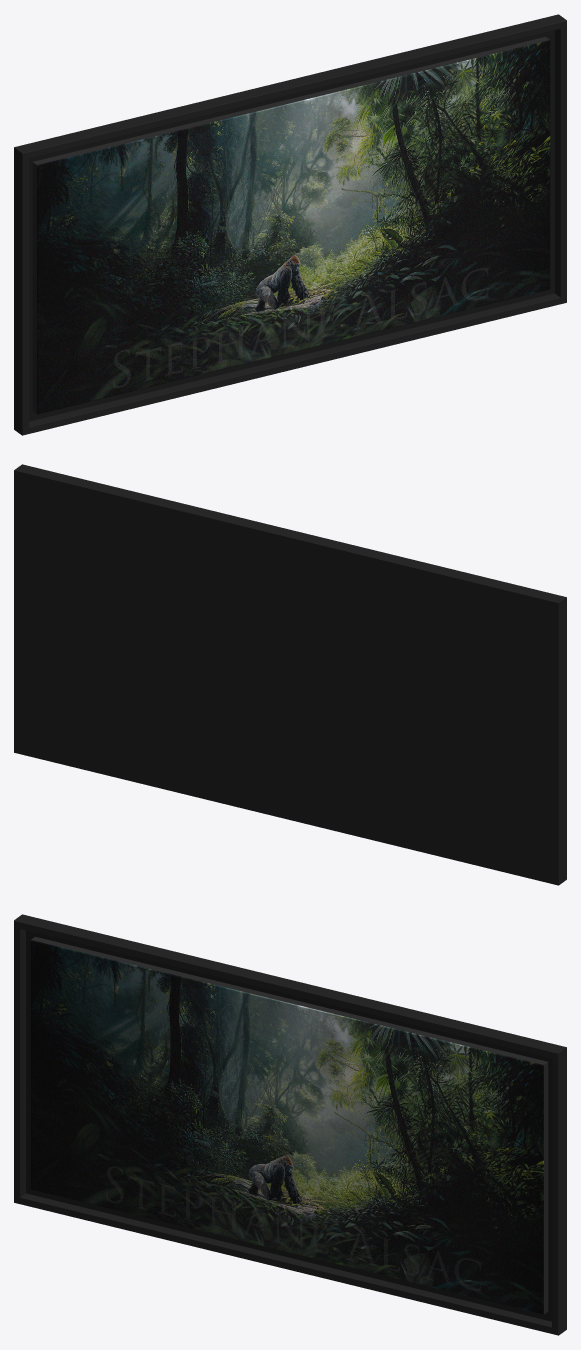
The model's file is tableau-gorille-jungle-grand-c5fbeb98.glb.
3 renders of one model, top to bottom at view 1: azimuth 30°, elevation 25°; view 2: azimuth 150°, elevation 25°; view 3: azimuth 330°, elevation 25°, orthographic.
Visible parts, largest first — view 1: Painting; view 2: Painting; view 3: Painting.
Boxes of the visible parts, left/top/right/bottom form: Painting: left=14, top=14, right=566, bottom=435; Painting: left=14, top=464, right=566, bottom=885; Painting: left=14, top=914, right=566, bottom=1335.
Size of the model in its own units: 1.49 by 0.736 by 0.04.
Materials: 4 (2 with a texture image).
